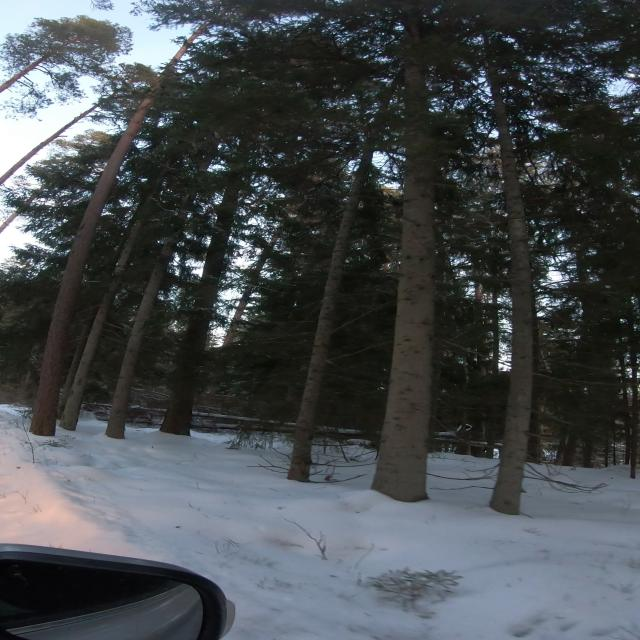trees: (36, 24, 207, 435), (371, 0, 436, 502), (287, 150, 372, 482), (486, 63, 537, 515), (60, 195, 154, 430), (161, 174, 242, 435), (105, 234, 180, 438), (0, 102, 100, 185), (222, 228, 279, 346), (0, 56, 47, 93), (0, 269, 5, 285)
